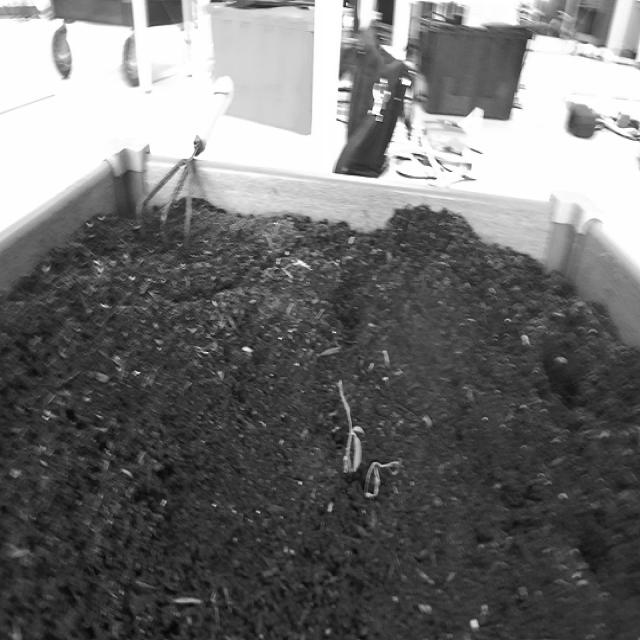Healthy: (334, 367, 366, 482)
Unhealthy: (363, 456, 403, 504)
